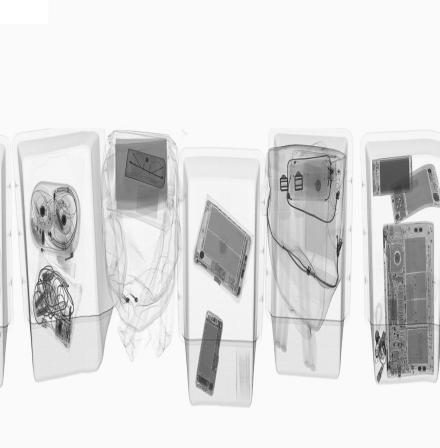Powerbank: (371, 156, 414, 199)
